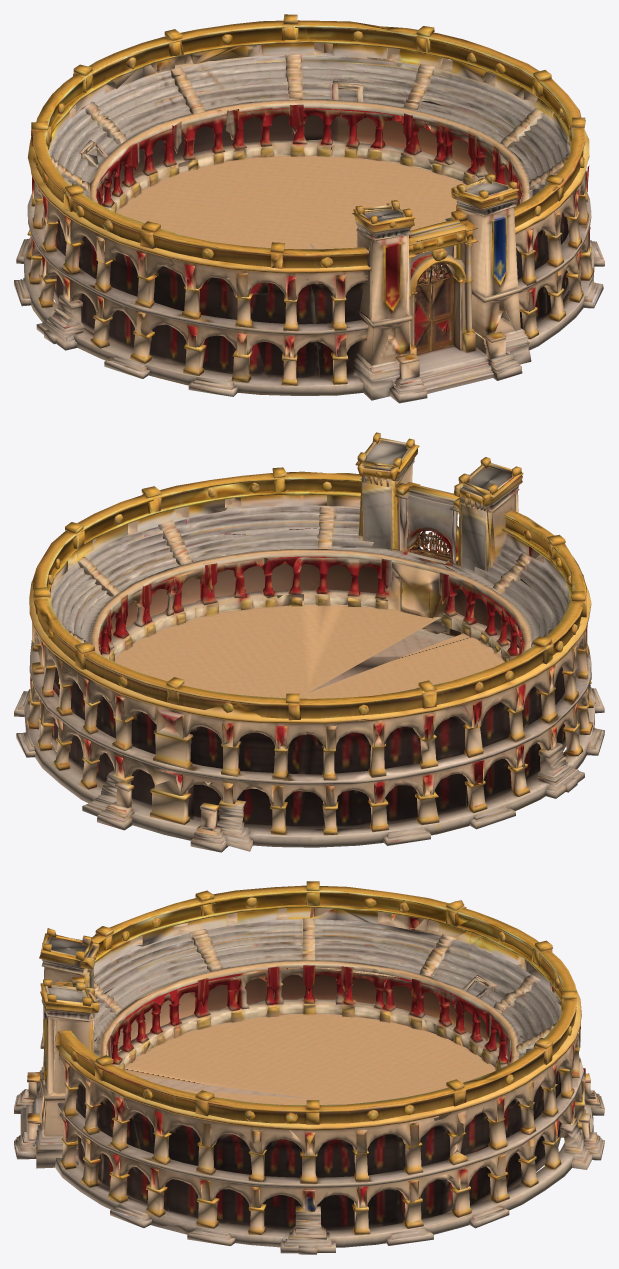
Rendered from camp_colisee_v3.glb.
3 views of the same model, one above another, from view 1: azimuth 30°, elevation 25°; view 2: azimuth 150°, elevation 25°; view 3: azimuth 270°, elevation 25° (orthographic). The views are drawn at different scales.
Parts seen in each view (by area): view 1: Mesh_0; view 2: Mesh_0; view 3: Mesh_0.
Boxes of the visible parts, x1=… form: Mesh_0: x1=14, y1=14, x2=604, y2=403; Mesh_0: x1=14, y1=432, x2=604, y2=852; Mesh_0: x1=14, y1=881, x2=604, y2=1254.
Bounding box in the file's own units: 0.9326 × 0.2988 × 0.9482.
Materials: 1 (1 with a texture image).
